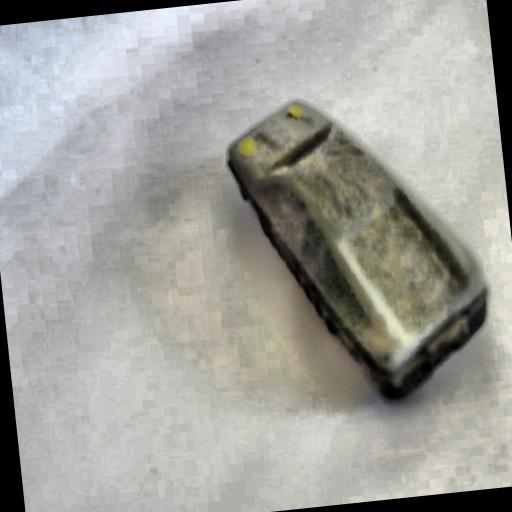normal_car: (216, 74, 505, 421)
